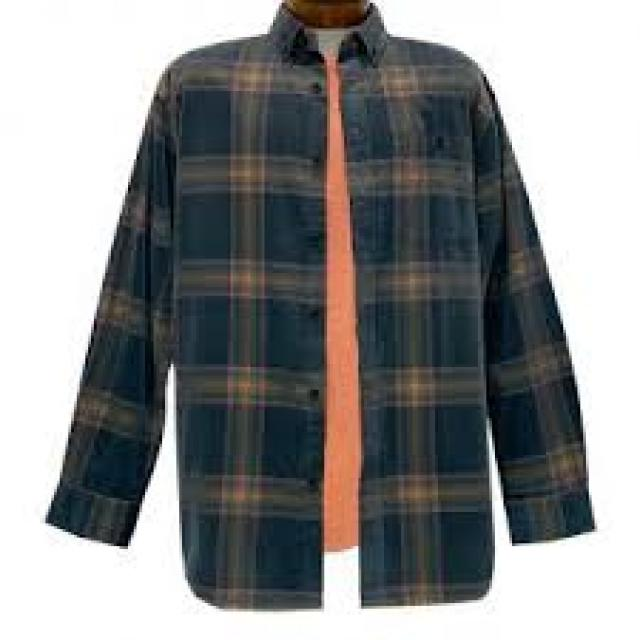plaid: (40, 0, 602, 626)
